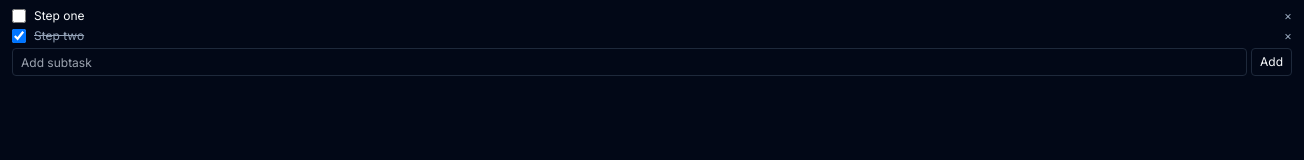
Test case: SubtaskList — toggle (R6) › surfaces an action error
Click the checkbox labelled "Step one".
click(19, 16)  # box [12, 9, 26, 23]
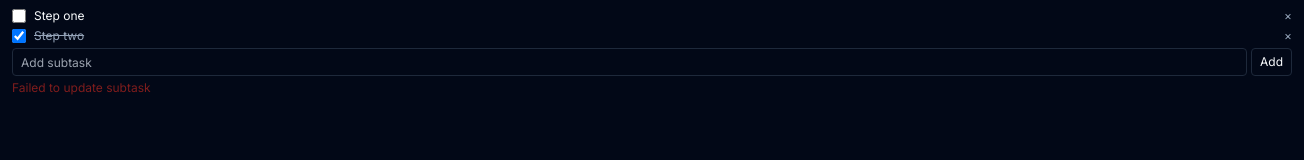
Check: the message shows "Failed", box [12, 80, 151, 95]
